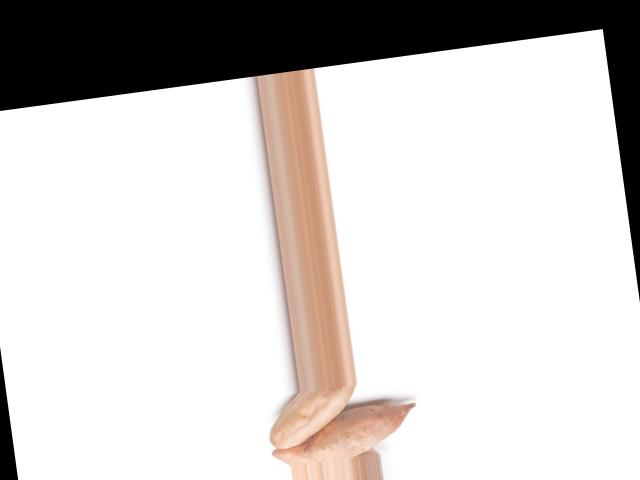sweet_potato: (263, 382, 369, 449)
